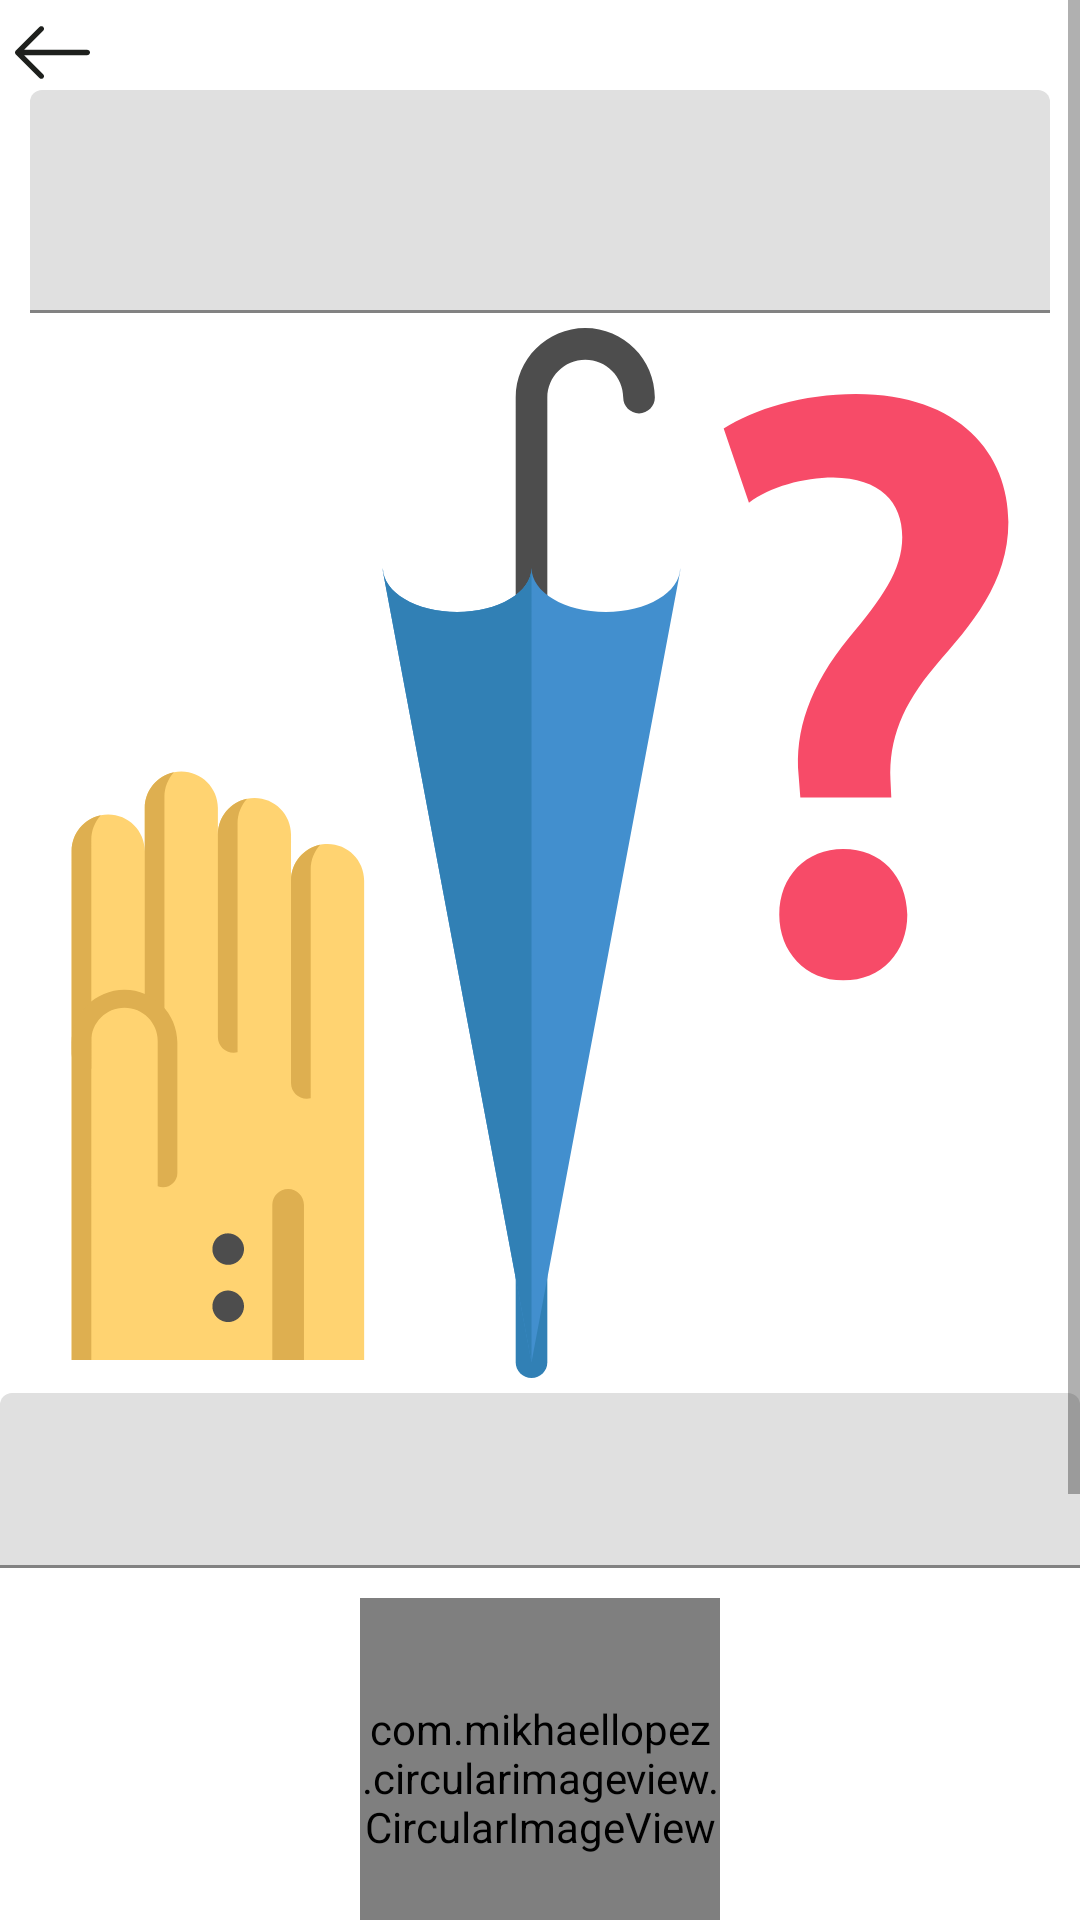

Icon bounding boxes for this 1080*1920 phone screenshot, format (x1=x1, y1=y1, x2=x2, y2=y2):
back: (x1=15, y1=26, x2=90, y2=79)
